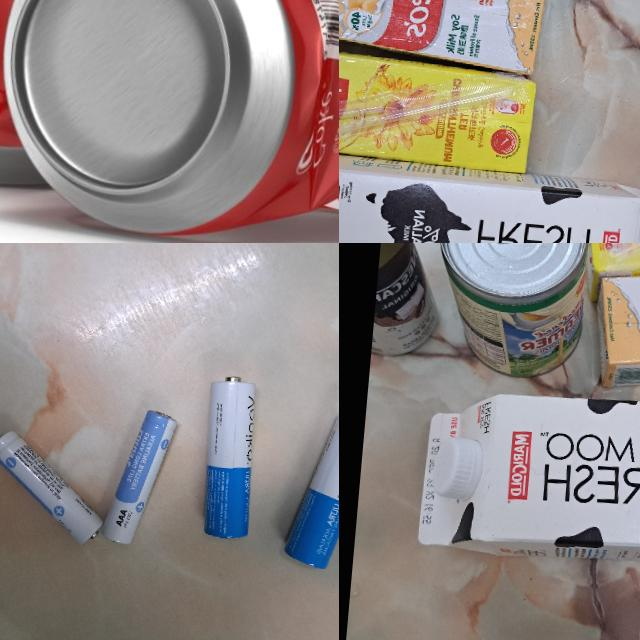bateria: (0, 428, 109, 548), (99, 404, 177, 548), (198, 374, 262, 540), (282, 404, 339, 574)
caixinha: (414, 375, 640, 586), (339, 146, 640, 243), (339, 48, 534, 170), (339, 0, 546, 74), (588, 249, 640, 407)
lata: (0, 0, 339, 243), (0, 0, 184, 200), (427, 243, 595, 384), (371, 243, 454, 361)
tampa plástica: (429, 435, 476, 499)
